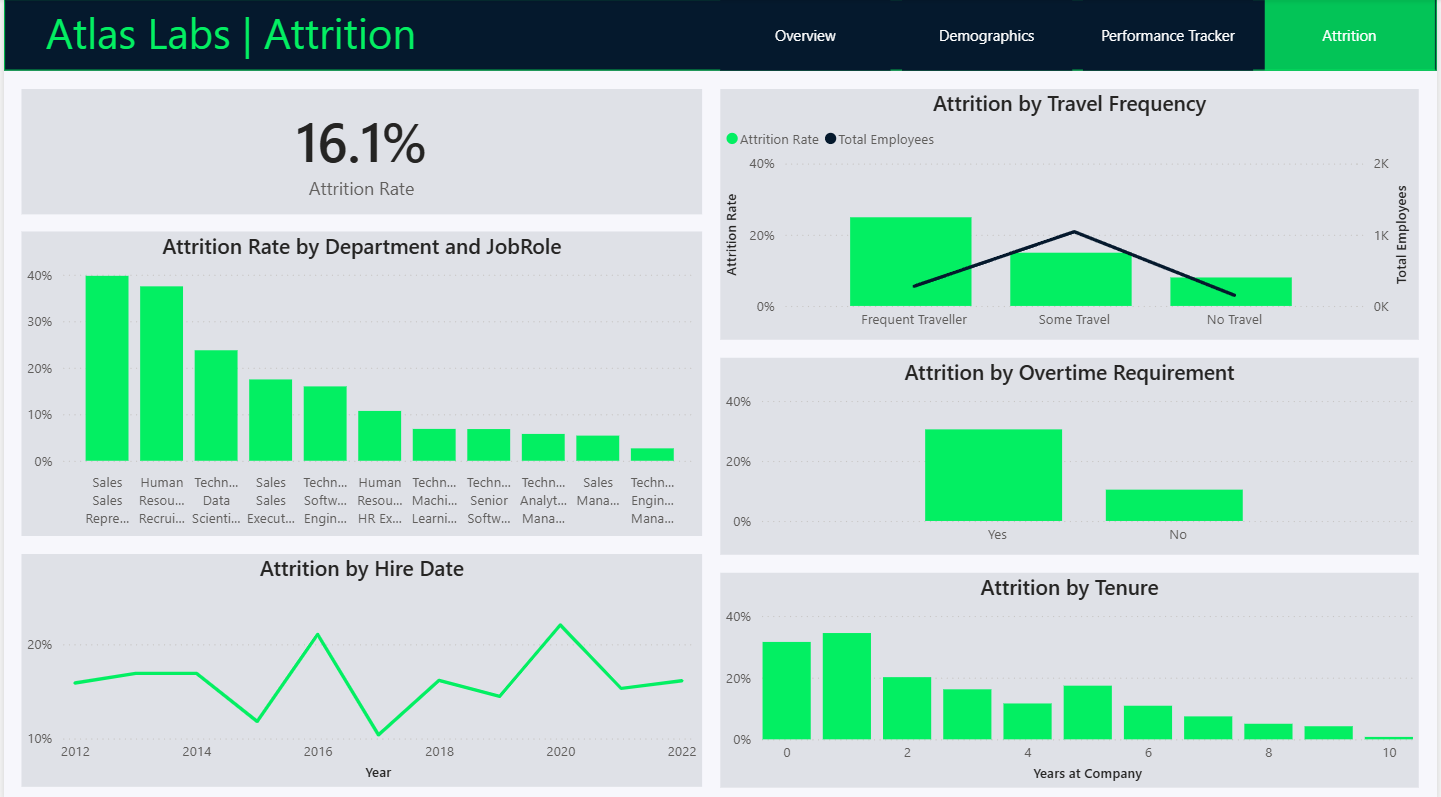

The dashboard page shown, as its layout file describes it:
{"tool":"powerbi","page":{"name":"Attrition","canvas":[1280,720],"ordinal":3},"visuals":[{"type":"card","fields":{"Values":["_Measures.% Attrition Rate"]},"box":[16,80,608,112],"z":0},{"type":"columnChart","title":"Attrition Rate by Department and JobRole","fields":{"Category":["DimEmployee.Department","DimEmployee.JobRole"],"Y":["_Measures.% Attrition Rate"]},"box":[16,208,608,272],"z":1000},{"type":"lineChart","title":"Attrition by Hire Date","fields":{"Y":["_Measures.% Attrition Rate Date"],"Category":["DimDate.Date.Variation.Date Hierarchy.Year","DimDate.Date.Variation.Date Hierarchy.Quarter","DimDate.Date.Variation.Date Hierarchy.Month","DimDate.Date.Variation.Date Hierarchy.Day"]},"box":[16,496,608,208],"z":2000},{"type":"lineStackedColumnComboChart","title":"Attrition by Travel Frequency","fields":{"Y":["_Measures.% Attrition Rate"],"Category":["DimEmployee.BusinessTravel"],"Y2":["_Measures.TotalEmployees"]},"box":[640,80,624,224],"z":3000},{"type":"columnChart","title":"Attrition by Overtime Requirement","fields":{"Category":["DimEmployee.OverTime"],"Y":["_Measures.% Attrition Rate"]},"box":[640,320,624,176],"z":4000},{"type":"columnChart","title":"Attrition by Tenure","fields":{"Category":["DimEmployee.YearsAtCompany"],"Y":["_Measures.% Attrition Rate"]},"box":[640,512,624,192],"z":5000},{"type":"shape","box":[0,0,1280,64],"z":6000},{"type":"textbox","box":[32,0,624,64],"z":7000},{"type":"pageNavigator","box":[640,0,640,64],"z":8000}]}

Visuals, with their boxes in screenshot pixels (x1, y1, x2, y2), scaled from the page's 1280x720 canvas onto the 1441x797 screenshot:
card - _Measures.% Attrition Rate: bbox(18, 89, 702, 213)
"Attrition Rate by Department and JobRole" columnChart: bbox(18, 230, 702, 531)
"Attrition by Hire Date" lineChart: bbox(18, 549, 702, 779)
"Attrition by Travel Frequency" lineStackedColumnComboChart: bbox(720, 89, 1423, 337)
"Attrition by Overtime Requirement" columnChart: bbox(720, 354, 1423, 549)
"Attrition by Tenure" columnChart: bbox(720, 567, 1423, 779)
shape: bbox(0, 0, 1440, 71)
textbox: bbox(36, 0, 739, 71)
pageNavigator: bbox(720, 0, 1440, 71)
